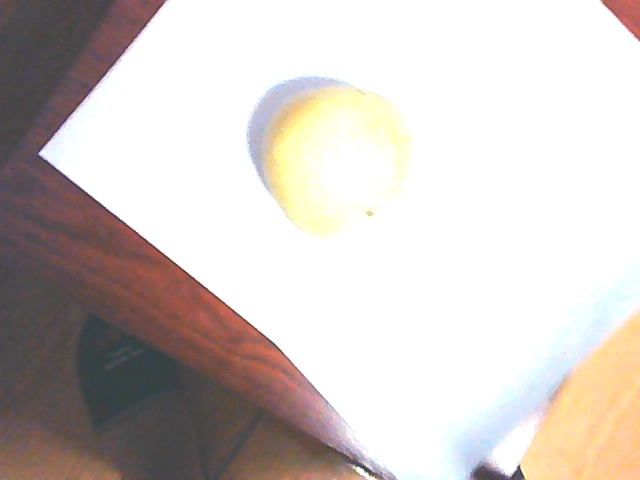pear: (262, 88, 409, 234)
